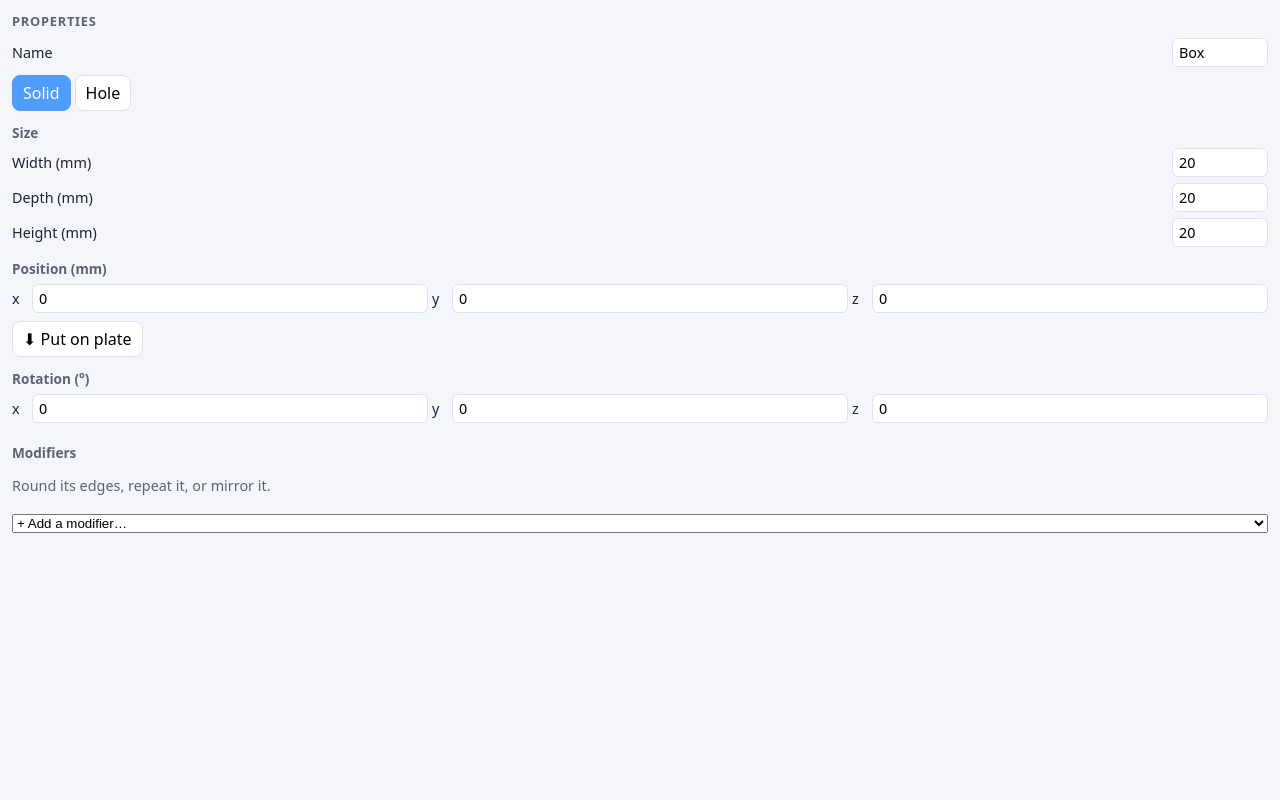
Test: PropertiesPanel › takes a formula, shows its result, and keeps the formula text
Replace the text in the field with test id "param-width" with "wall * 10": (1220, 162) x1=1172 y1=148 x2=1268 y2=177
Then press Enter
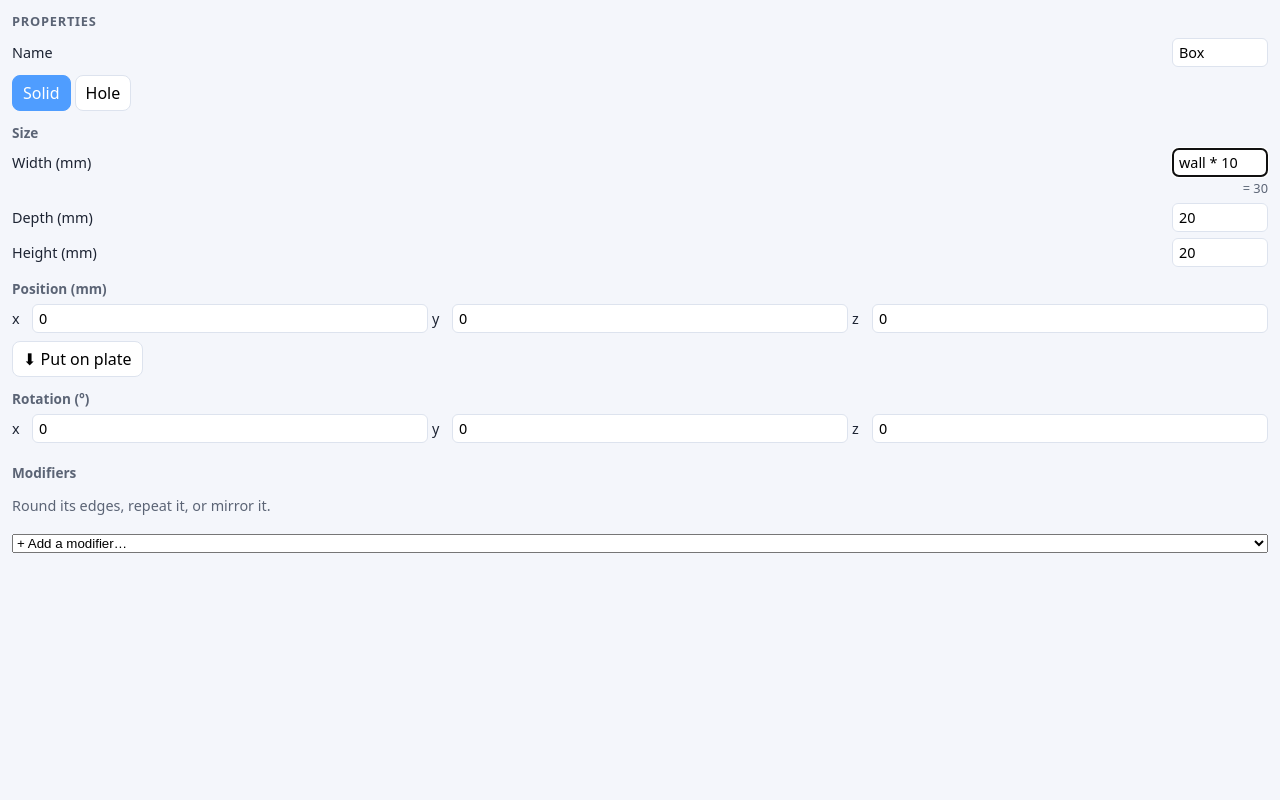
Expected: the text with test id "param-width-value" reads "= 30", x1=1243 y1=179 x2=1268 y2=197
